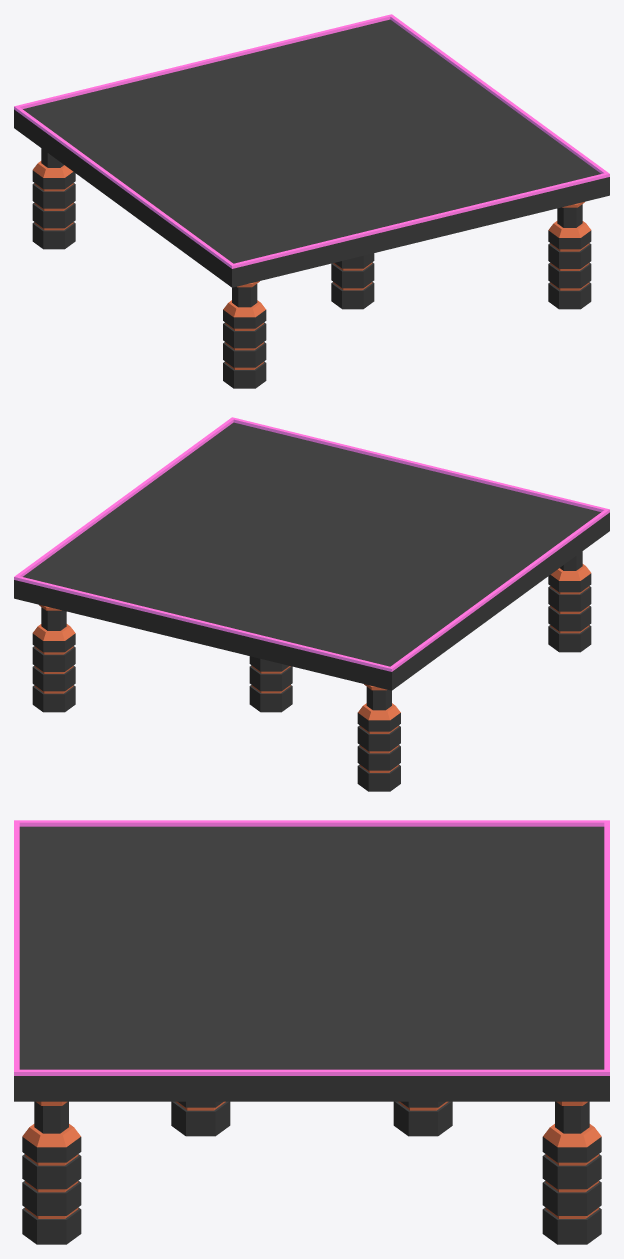
The model's file is 2x2_Foundation.fbx.
The picture shows the model from 3 angles, top to bottom: view 1: azimuth 30°, elevation 25°; view 2: azimuth 150°, elevation 25°; view 3: azimuth 270°, elevation 25°; orthographic projection. The views are drawn at different scales.
Visible parts, largest first — view 1: 2x2 Foundation; view 2: 2x2 Foundation; view 3: 2x2 Foundation.
Part boxes in pixels (x1=…): 2x2 Foundation: x1=14, y1=14, x2=609, y2=388; 2x2 Foundation: x1=14, y1=417, x2=609, y2=791; 2x2 Foundation: x1=14, y1=820, x2=609, y2=1244.
Size of the model in its own units: 40000 by 13289 by 40000.
